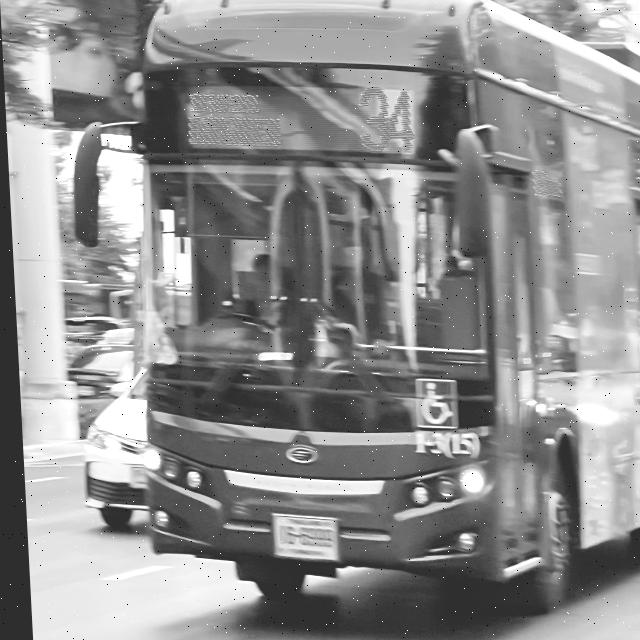Bus Line Number: (350, 81, 422, 157)
Bus Side Number: (402, 428, 476, 459)
Destination Sign: (179, 81, 285, 161)
TSB-Bus: (111, 0, 640, 615)
